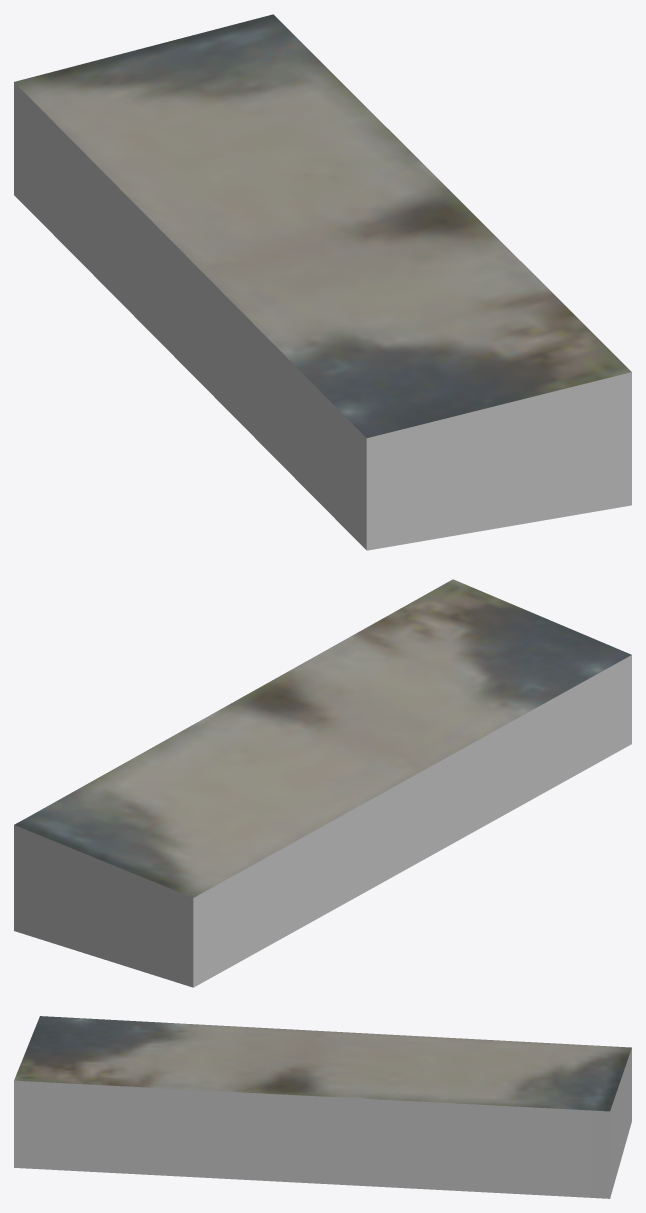
Rendered from DEBW_0010007TxcH.gltf.
3 views of the same model, one above another, from view 1: azimuth 30°, elevation 25°; view 2: azimuth 150°, elevation 25°; view 3: azimuth 270°, elevation 25° (orthographic). The views are drawn at different scales.
Parts seen in each view (by area): view 1: Z_UP; view 2: Z_UP; view 3: Z_UP.
Part boxes in pixels (x1=…): Z_UP: x1=14, y1=14, x2=631, y2=550; Z_UP: x1=14, y1=579, x2=631, y2=987; Z_UP: x1=14, y1=1016, x2=631, y2=1198.
Bounding box in the file's own units: 8.27 × 3.08 × 19.75.
Materials: 2 (1 with a texture image).
